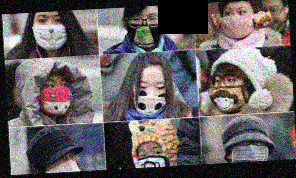with_mask: (209, 70, 246, 110), (29, 13, 67, 51), (125, 11, 164, 48), (38, 75, 73, 116), (131, 78, 167, 112), (221, 5, 254, 39), (227, 140, 269, 162), (44, 150, 76, 173), (136, 144, 166, 168)
